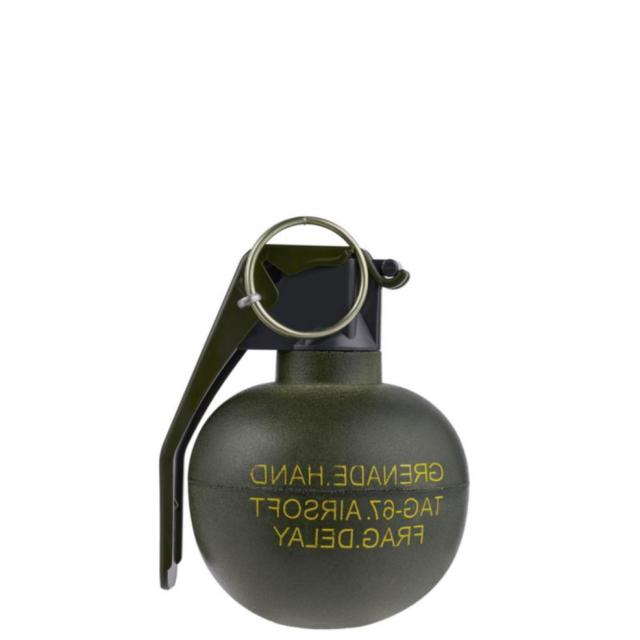grenade: (159, 217, 470, 633)
